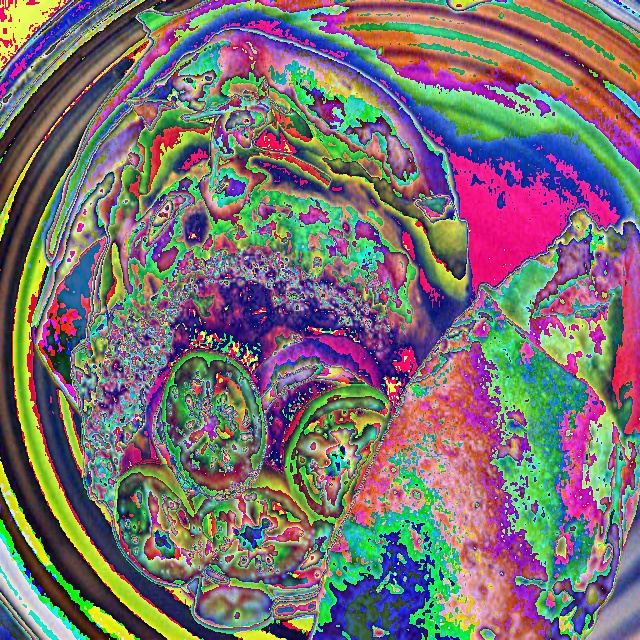background: (33, 27, 639, 639)
